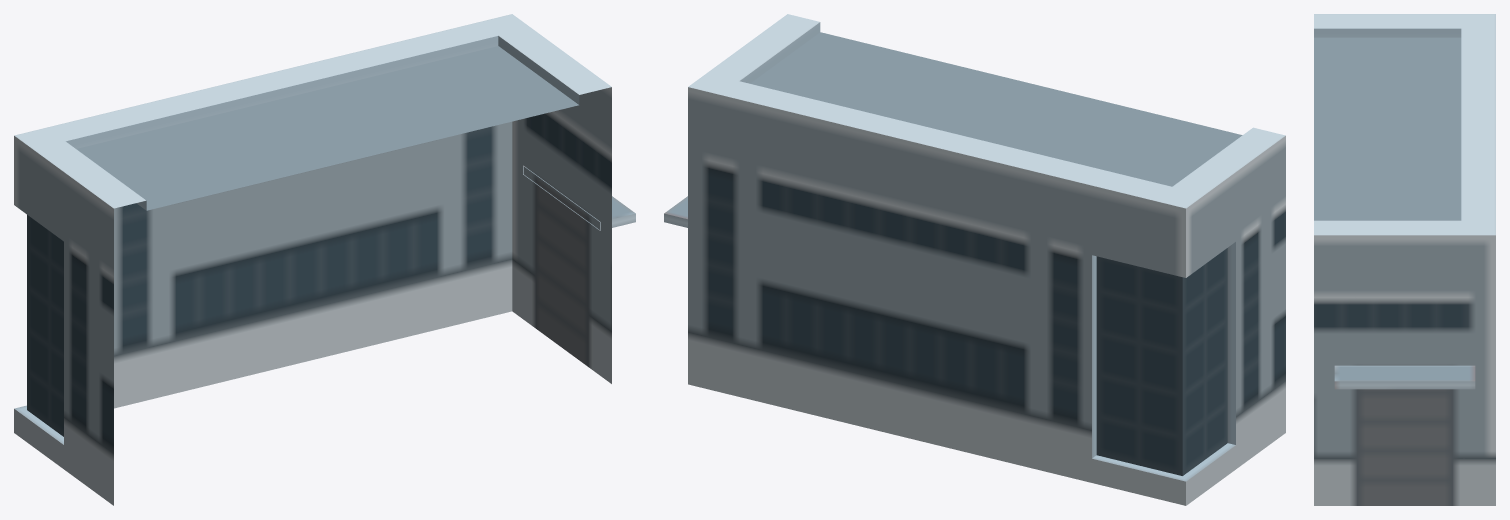
Rendered from Universal_Building_Warehouse_L3_03_Mod.fbx.
3 views of the same model, side by side, from view 1: azimuth 30°, elevation 25°; view 2: azimuth 150°, elevation 25°; view 3: azimuth 270°, elevation 25° (orthographic). The views are drawn at different scales.
Parts seen in each view (by area): view 1: Universal_Building_Warehouse_L3_03_Mod; view 2: Universal_Building_Warehouse_L3_03_Mod; view 3: Universal_Building_Warehouse_L3_03_Mod.
Part boxes in pixels (x1,y1,x2,y2): Universal_Building_Warehouse_L3_03_Mod: (14, 14, 635, 505); Universal_Building_Warehouse_L3_03_Mod: (664, 14, 1285, 505); Universal_Building_Warehouse_L3_03_Mod: (1314, 14, 1495, 505).
Size of the model in its own units: 1180 by 629 by 383.
